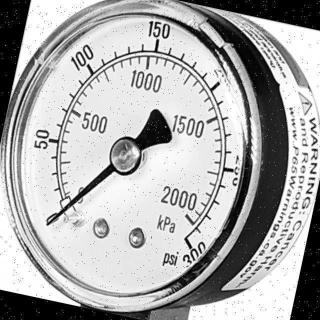gauge: (0, 0, 260, 320), (33, 195, 77, 239), (167, 220, 209, 266), (109, 136, 143, 174), (40, 217, 55, 231)
